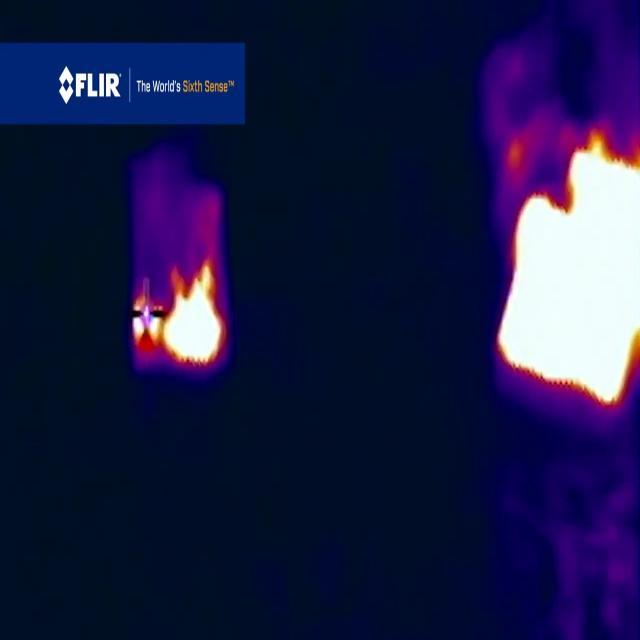fire: (498, 138, 640, 408), (134, 261, 229, 372)
